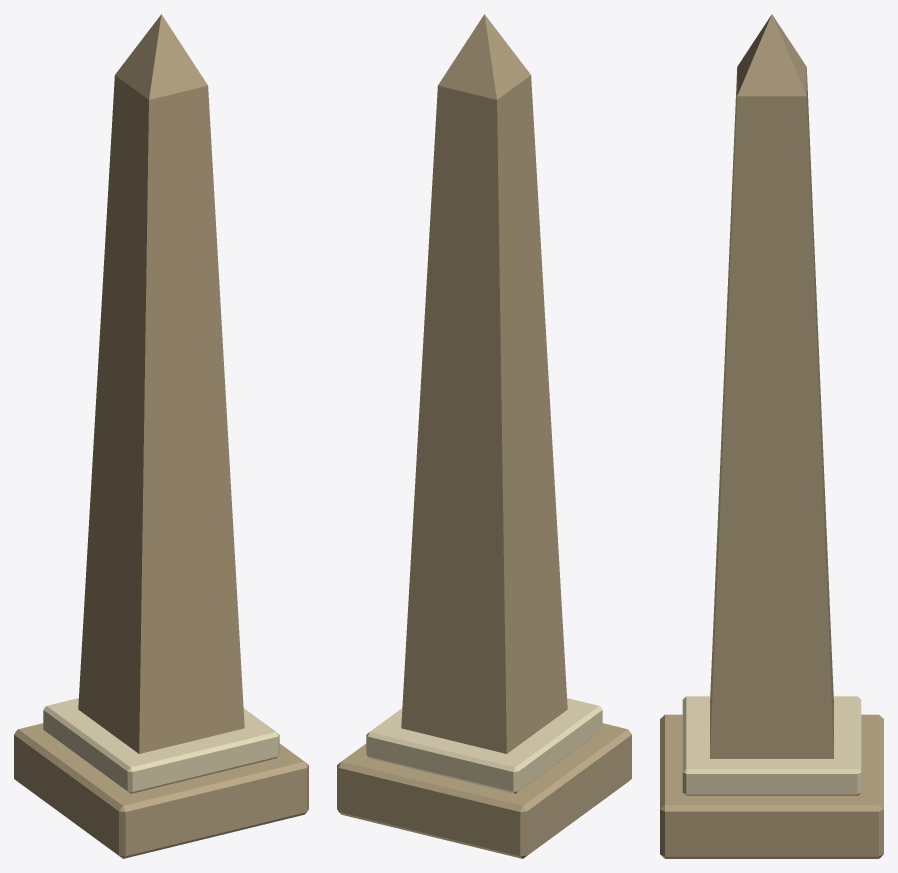
The model's file is obelisk.glb.
3 views of the same model, side by side, from view 1: azimuth 30°, elevation 25°; view 2: azimuth 150°, elevation 25°; view 3: azimuth 270°, elevation 25° (orthographic).
Visible parts, largest first — view 1: Obelisk, Base, Base step; view 2: Obelisk, Base, Base step; view 3: Obelisk, Base, Base step.
Part boxes in pixels (bbox=[...]): Obelisk: bbox=[78, 14, 244, 753]; Base: bbox=[14, 723, 308, 858]; Base step: bbox=[43, 698, 279, 793]; Obelisk: bbox=[401, 14, 567, 753]; Base: bbox=[337, 723, 631, 858]; Base step: bbox=[366, 698, 602, 793]; Obelisk: bbox=[710, 14, 833, 758]; Base: bbox=[660, 714, 883, 858]; Base step: bbox=[682, 696, 861, 795].
Bounding box in the file's own units: 180 × 710 × 180.
